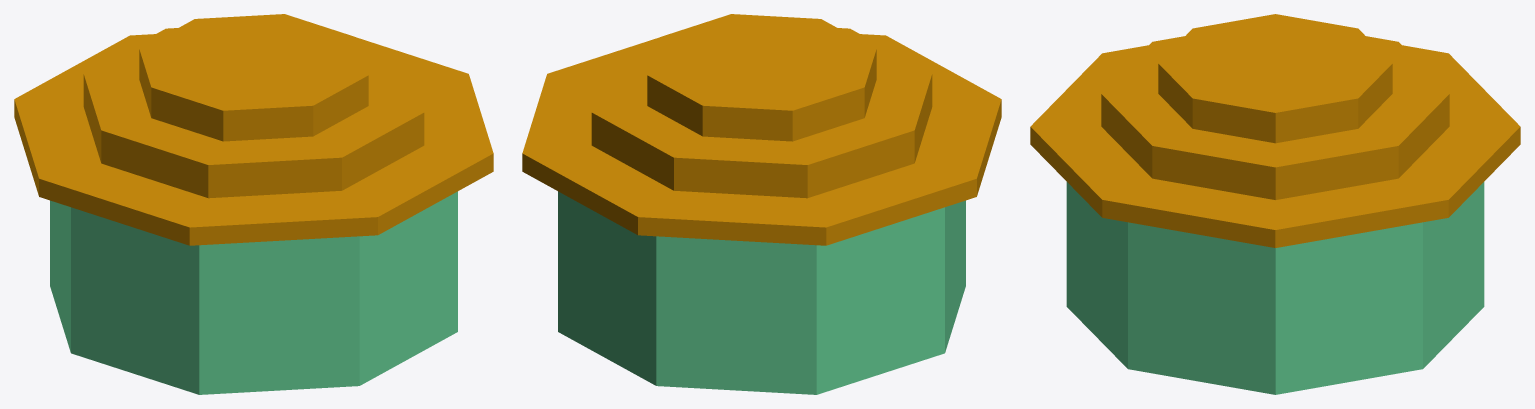
File: Round_table.fbx
The picture shows the model from 3 angles, left to right: view 1: azimuth 30°, elevation 25°; view 2: azimuth 150°, elevation 25°; view 3: azimuth 270°, elevation 25°; orthographic projection.
Parts seen in each view (by area): view 1: round_table; view 2: round_table; view 3: round_table.
Part boxes in pixels (x1,y1,x2,y2): round_table: (14,14,493,394); round_table: (522,14,1001,394); round_table: (1030,14,1520,394).
Bounding box in the file's own units: 3 × 1.65 × 3.
